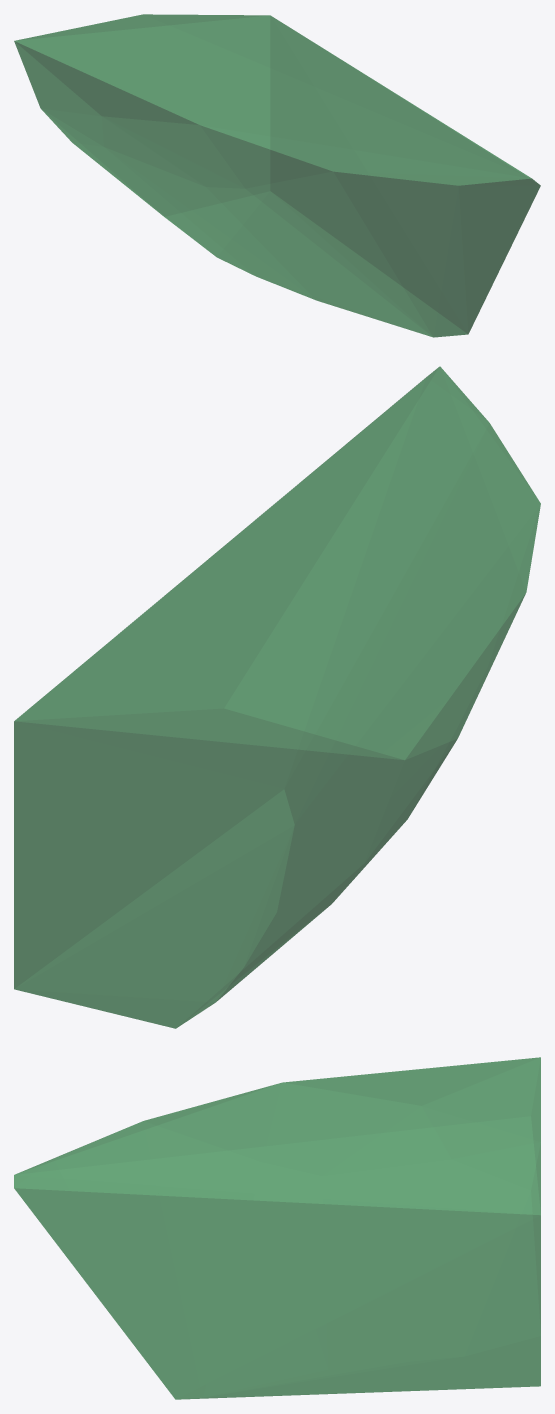
3 renders of one model, top to bottom at view 1: azimuth 30°, elevation 25°; view 2: azimuth 150°, elevation 25°; view 3: azimuth 270°, elevation 25°, orthographic. The views are drawn at different scales.
Visible parts, largest first — view 1: Shape_IndexedFaceSet.008_Shape_IndexedFaceSet.17986; view 2: Shape_IndexedFaceSet.008_Shape_IndexedFaceSet.17986; view 3: Shape_IndexedFaceSet.008_Shape_IndexedFaceSet.17986.
Boxes of the visible parts, x1,y1,x2,y2 form: Shape_IndexedFaceSet.008_Shape_IndexedFaceSet.17986: [14, 14, 540, 337]; Shape_IndexedFaceSet.008_Shape_IndexedFaceSet.17986: [14, 366, 540, 1028]; Shape_IndexedFaceSet.008_Shape_IndexedFaceSet.17986: [14, 1057, 540, 1399].
Bounding box in the file's own units: 0.2287 × 0.1881 × 0.4017.
